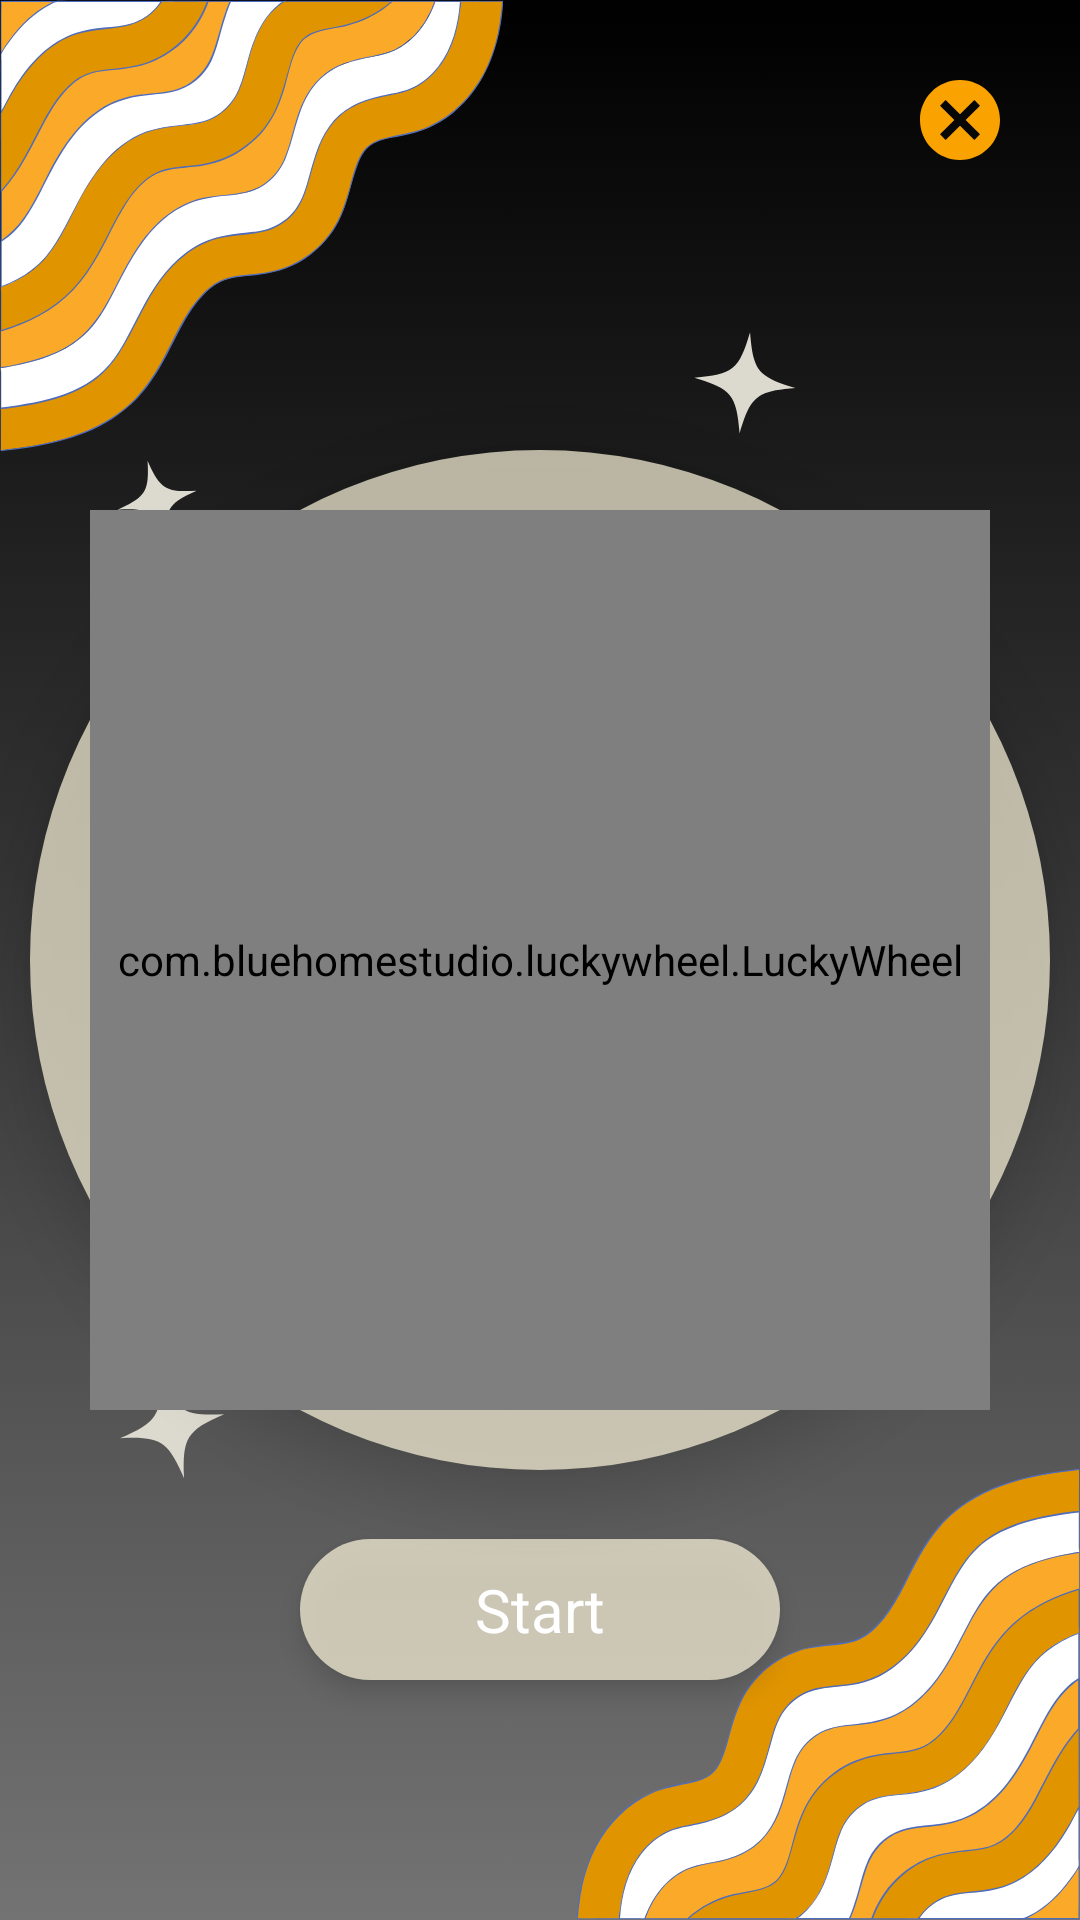

Named icons in this screenshot (1080px×1920px) and their centers, (x,y):
cancel: (960,120)
